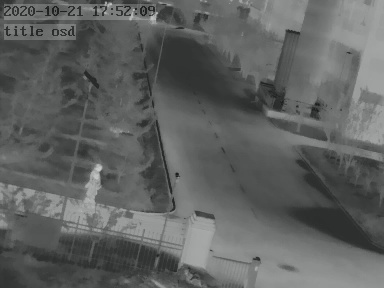person: (80, 163, 101, 211)
